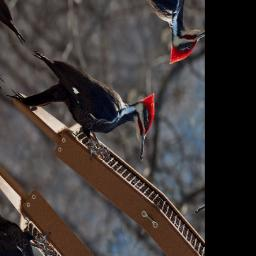Woodpecker: (6, 0, 172, 206)
